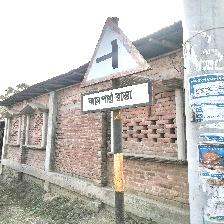Side-road-left: (80, 17, 153, 115)
